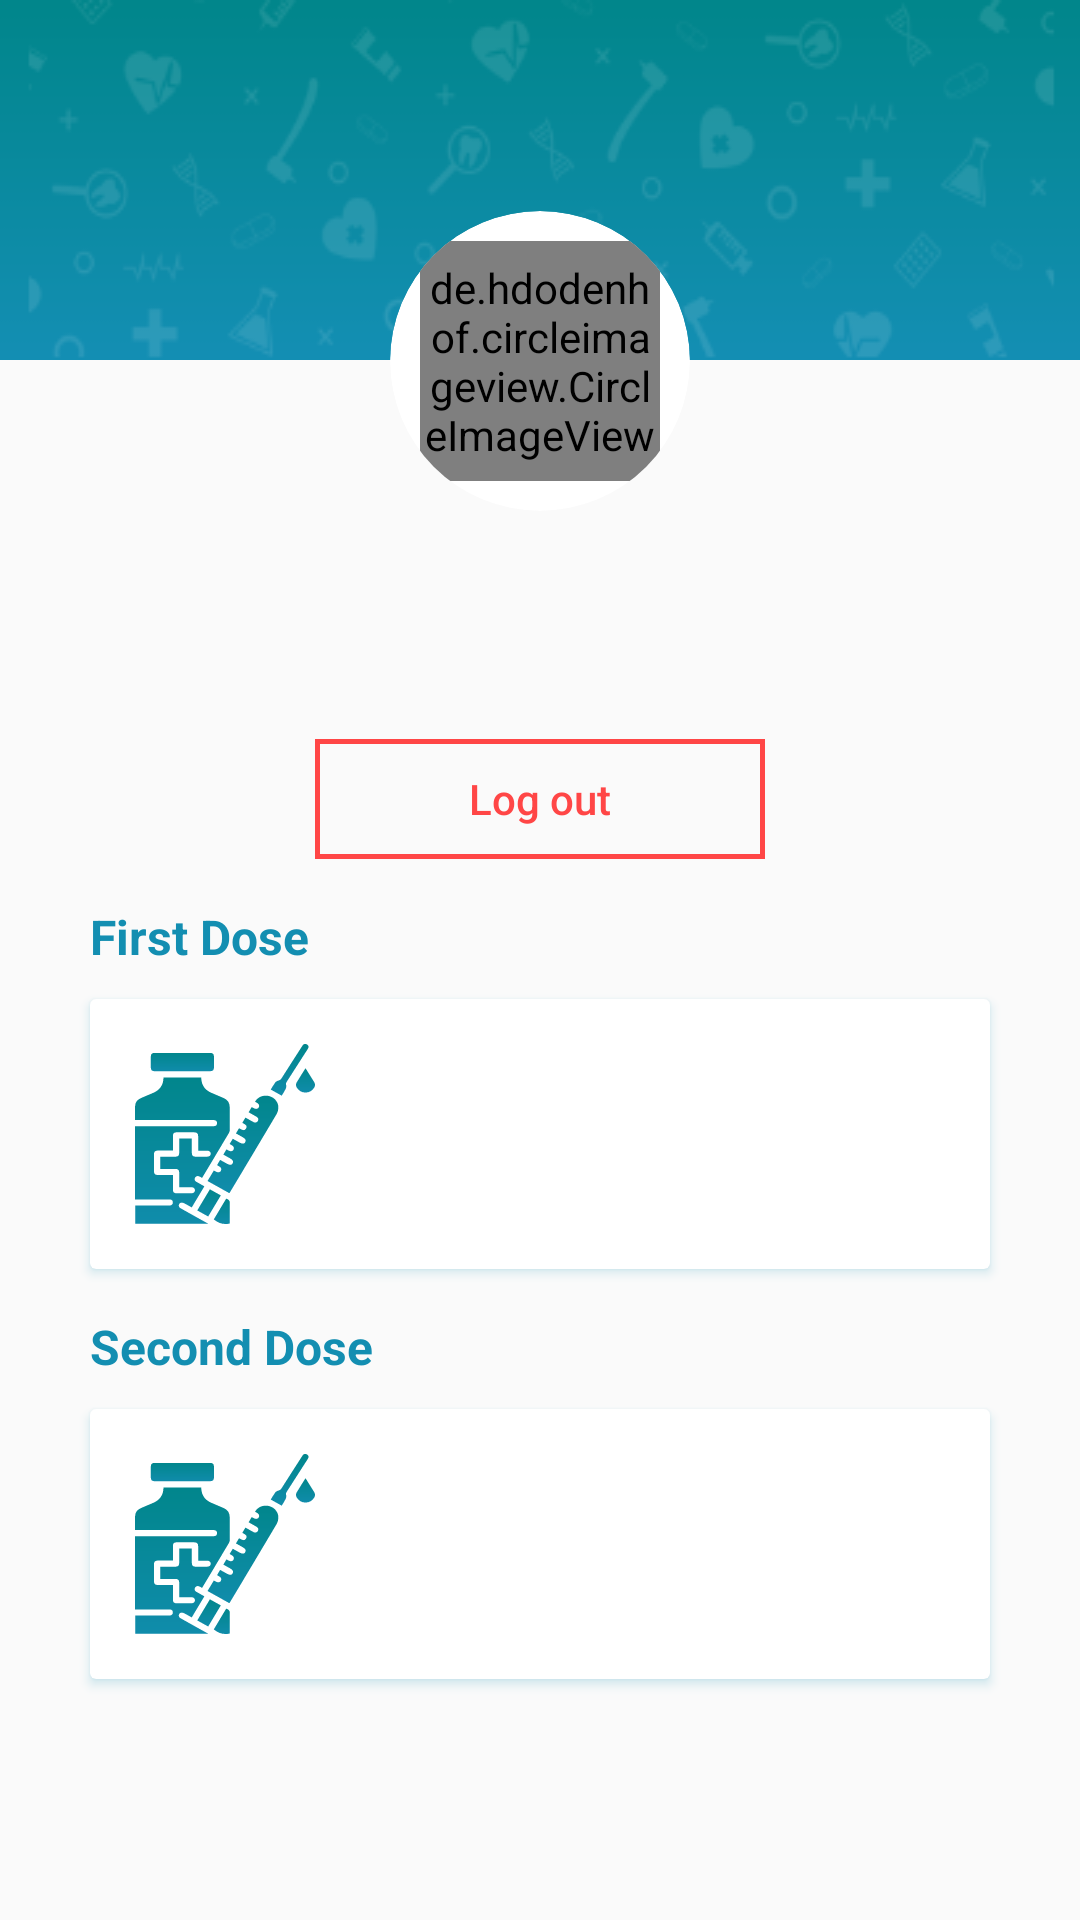

Screen size 1080w x 1920h. Icon name, then its center in pixels as [x,y]:
vaccine name: [225,1134], [225,1544]
